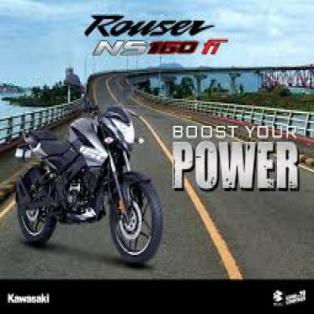Motocicleta: (11, 93, 162, 264)
